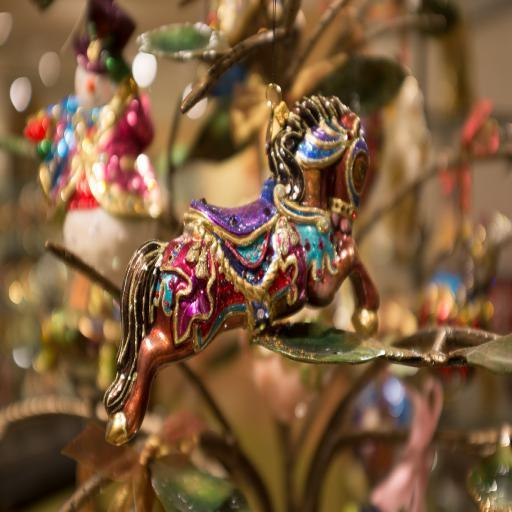horse: (102, 88, 382, 449)
